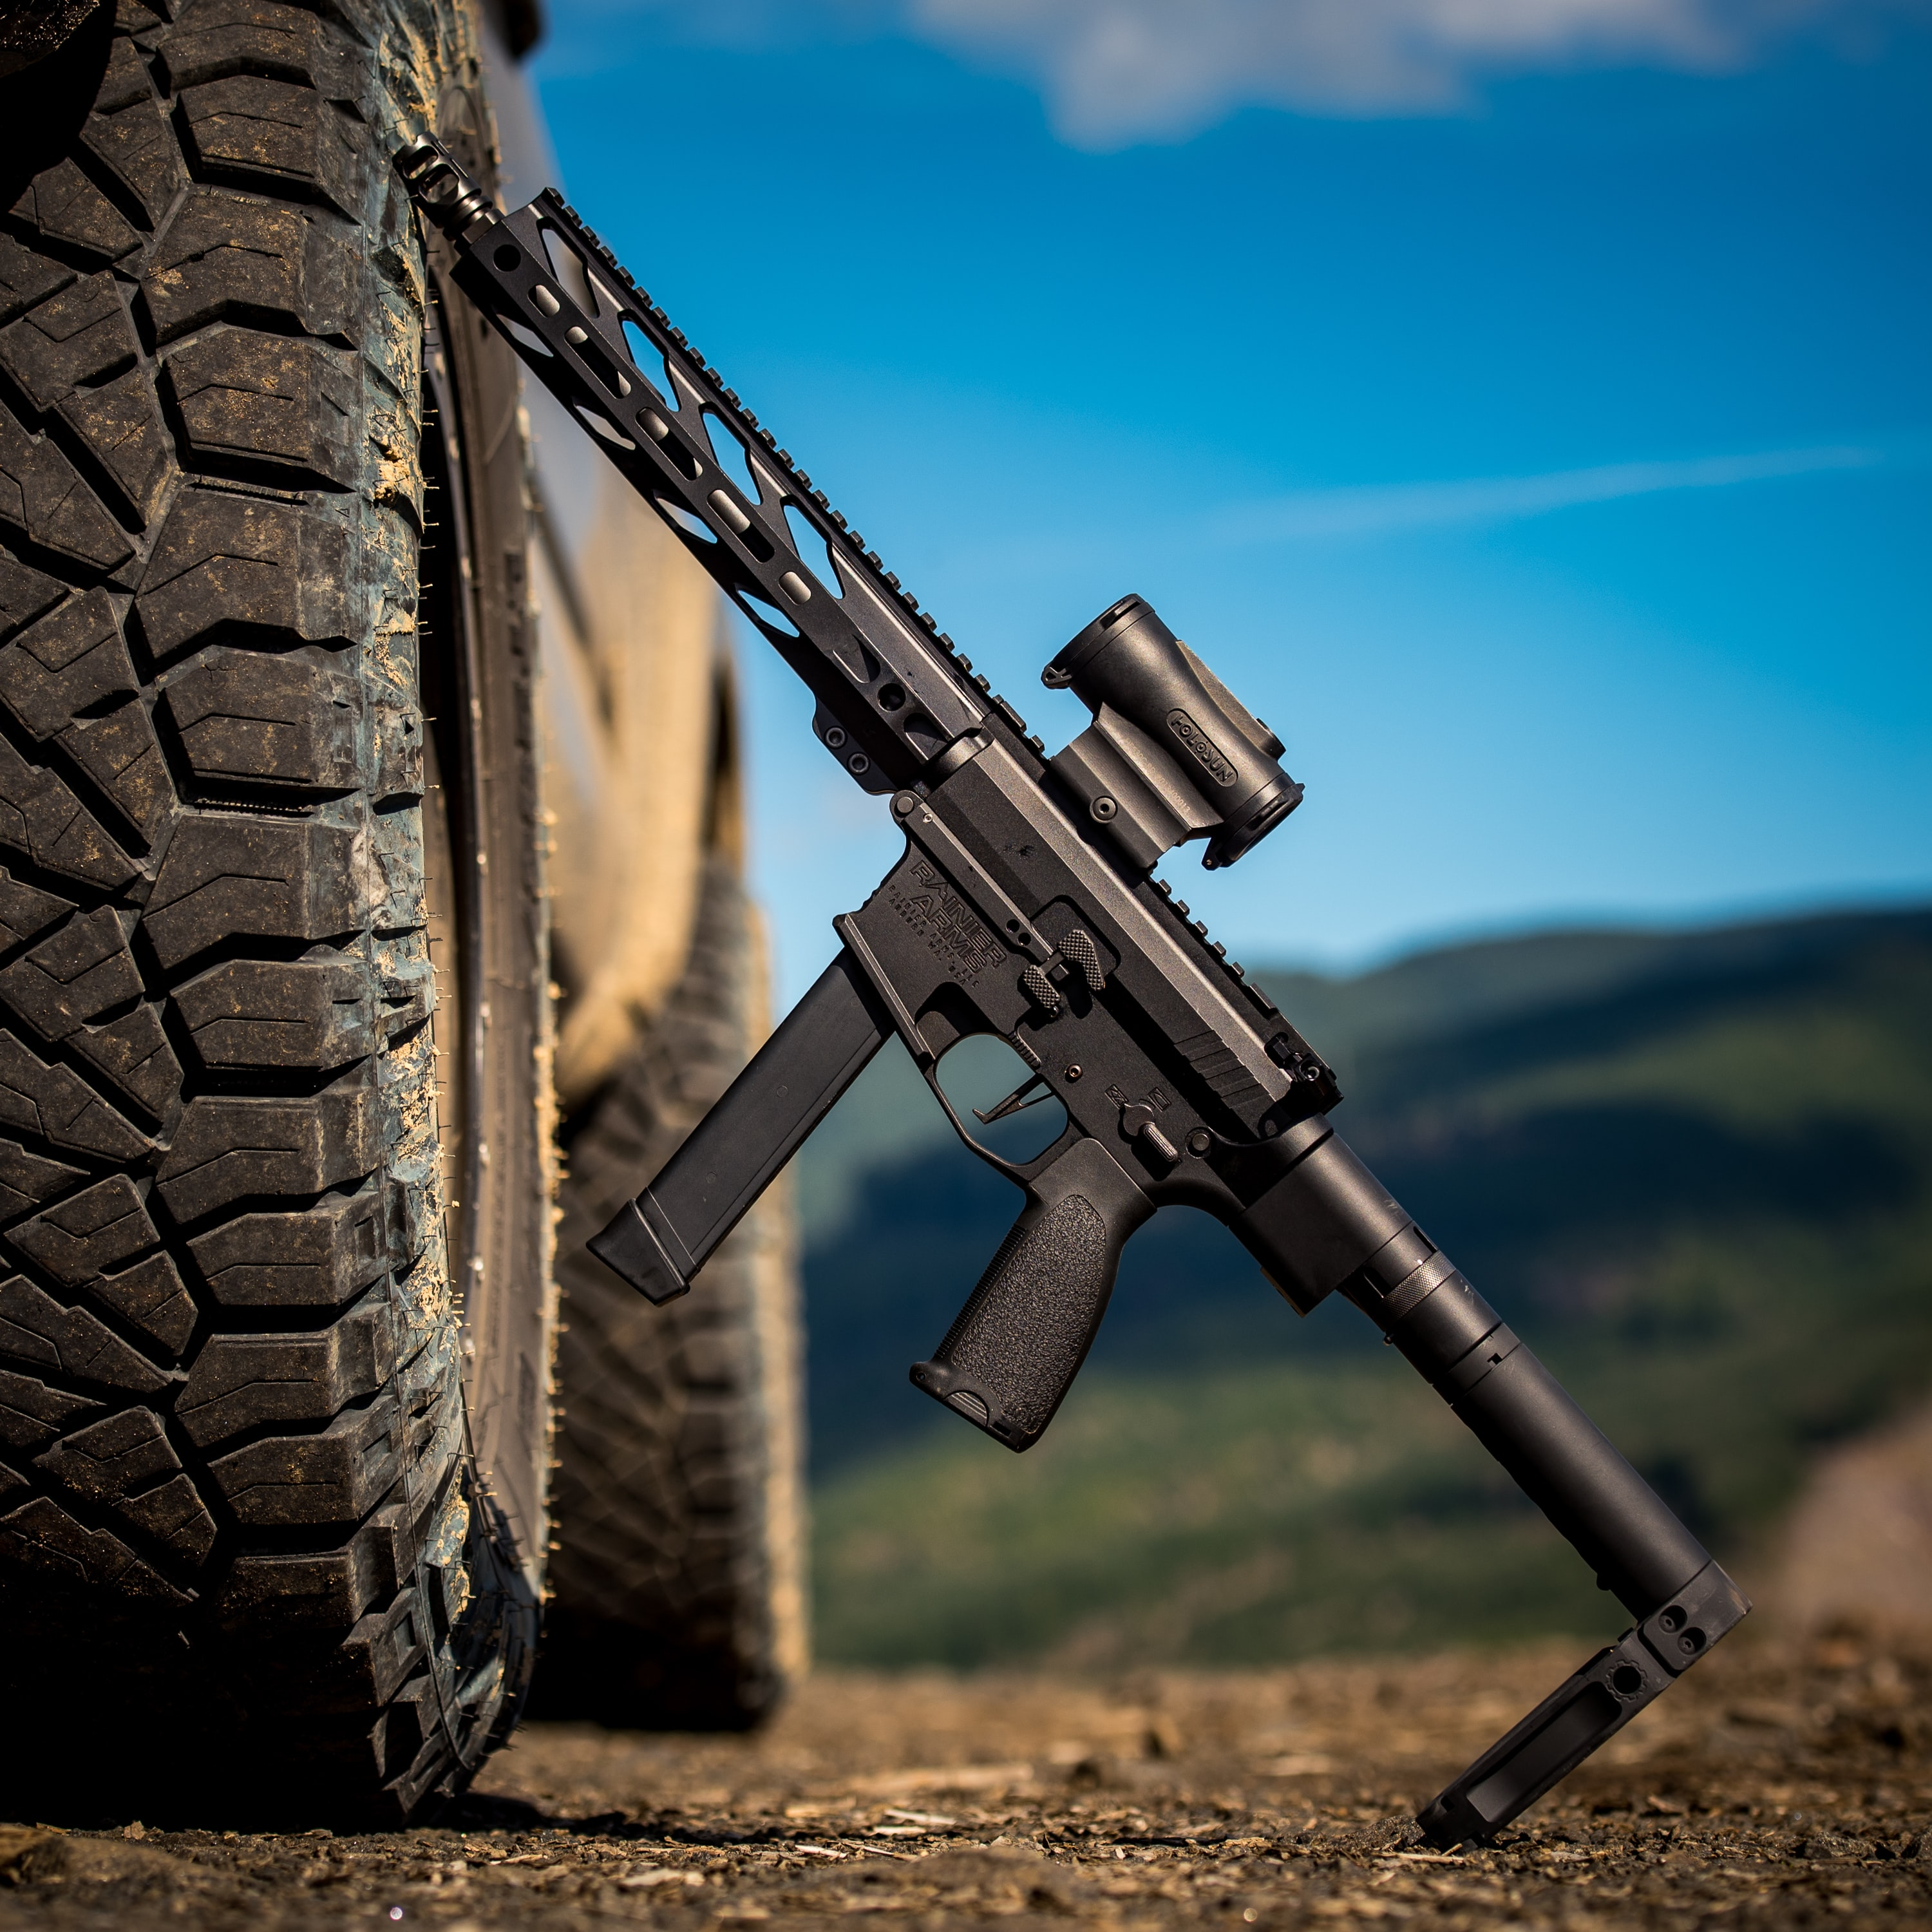Gun: (379, 94, 1760, 1808)
